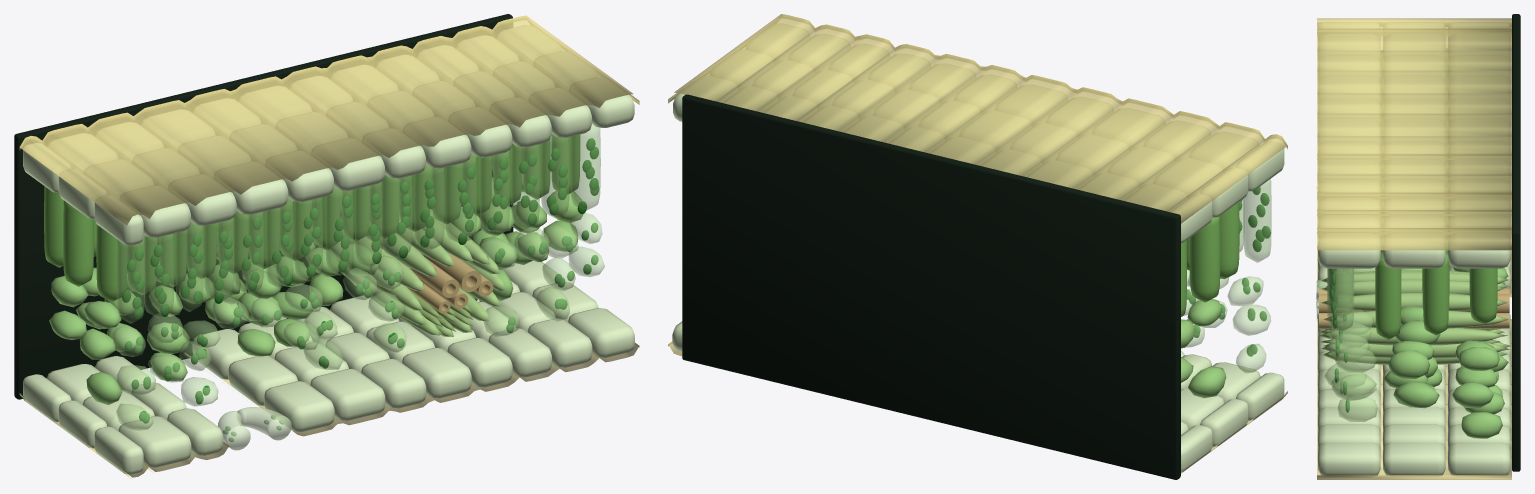
Rendered from 05_leaf_internal.glb.
The picture shows the model from 3 angles, left to right: view 1: azimuth 30°, elevation 25°; view 2: azimuth 150°, elevation 25°; view 3: azimuth 270°, elevation 25°; orthographic projection. The views are drawn at different scales.
Visible parts, largest first — view 1: Upper_Epidermis, Cuticle, Lower_Epidermis, Palisade_Cells_Front, Palisade_Cells, Spongy_Cells, Spongy_Cells_Front, Air_Spaces, Chloroplasts_Palisade, Bundle_Sheath, Chloroplasts_Spongy, Vein_Xylem (+2 smaller); view 2: Air_Spaces, Cuticle, Upper_Epidermis, Lower_Epidermis, Palisade_Cells, Spongy_Cells_Front, Palisade_Cells_Front, Spongy_Cells, Chloroplasts_Palisade, Chloroplasts_Spongy; view 3: Cuticle, Upper_Epidermis, Lower_Epidermis, Spongy_Cells, Bundle_Sheath, Palisade_Cells, Spongy_Cells_Front, Air_Spaces, Palisade_Cells_Front, Vein_Xylem, Chloroplasts_Spongy, Chloroplasts_Palisade.
Boxes of the visible parts, x1,y1,x2,y2 form: Upper_Epidermis: (23,25,634,245); Cuticle: (19,15,639,479); Lower_Epidermis: (23,260,634,474); Palisade_Cells_Front: (117,123,600,323); Palisade_Cells: (44,134,580,301); Spongy_Cells: (49,174,583,404); Spongy_Cells_Front: (112,213,604,430); Air_Spaces: (14,14,513,399); Chloroplasts_Palisade: (122,138,599,318); Bundle_Sheath: (328,207,506,336); Chloroplasts_Spongy: (124,223,598,423); Vein_Xylem: (340,214,493,313); Air_Spaces: (682,94,1180,479); Cuticle: (668,14,1287,473); Upper_Epidermis: (673,24,1284,243); Lower_Epidermis: (672,321,1284,472); Palisade_Cells: (1181,202,1239,316); Spongy_Cells_Front: (1183,270,1271,373); Palisade_Cells_Front: (1239,179,1271,262); Spongy_Cells: (1181,299,1226,398); Chloroplasts_Palisade: (1239,187,1270,252); Chloroplasts_Spongy: (1186,278,1266,356); Cuticle: (1317,18,1511,479); Upper_Epidermis: (1318,22,1510,268); Lower_Epidermis: (1318,260,1510,476); Spongy_Cells: (1384,267,1508,438); Bundle_Sheath: (1318,270,1510,364); Palisade_Cells: (1375,48,1497,339); Spongy_Cells_Front: (1316,187,1377,421); Air_Spaces: (1512,14,1520,471); Palisade_Cells_Front: (1327,268,1354,331); Vein_Xylem: (1319,288,1509,328); Chloroplasts_Spongy: (1334,316,1349,412); Chloroplasts_Palisade: (1329,268,1337,328).
Bounding box in the file's own units: 2.49 × 1.23 × 0.9418.
